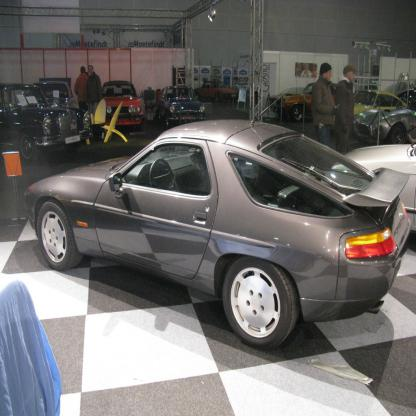Car: (22, 122, 405, 354), (332, 144, 416, 230), (0, 81, 84, 162), (350, 101, 416, 143), (269, 82, 338, 121), (157, 84, 207, 124), (102, 79, 142, 121), (34, 77, 79, 112), (353, 91, 409, 118), (194, 79, 239, 105), (400, 80, 416, 110)
